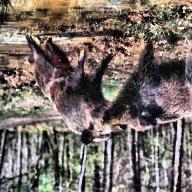boar: (29, 16, 116, 153), (103, 51, 192, 146)
